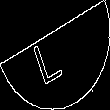L_NW: (36, 25, 74, 85)
